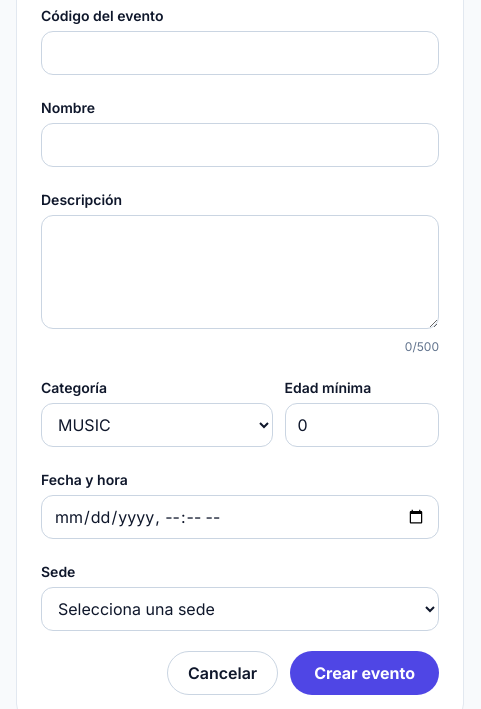
Test: TEST-FE-ADM: creación y gestión de eventos › TEST-FE-ADM-001 valida campos vacíos sin enviar la petición
(page scrolled)
Click the button "Crear evento" at (365, 673), box [290,651,439,695]
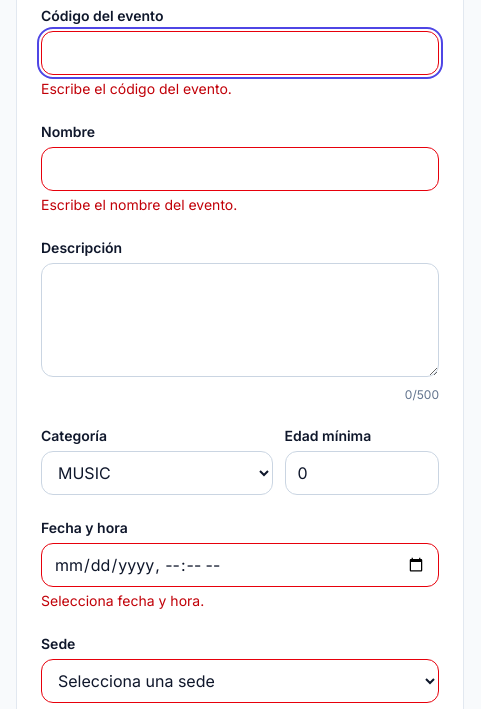
Now the text "Escribe el código del evento." is shown, box [41,80,232,97]
Now the text "Escribe el nombre del evento." is shown, box [41,196,237,213]
